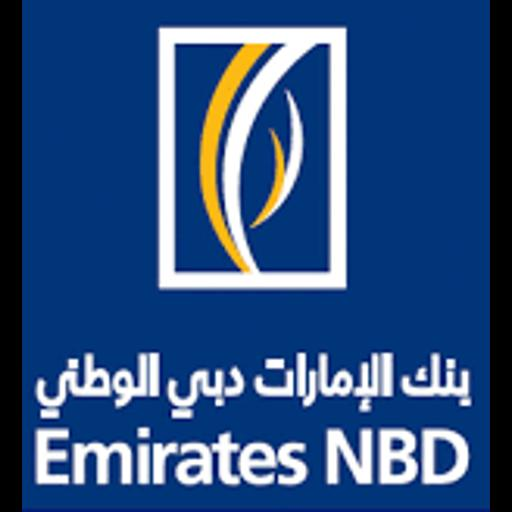Emirates NBD: (22, 0, 490, 512)
